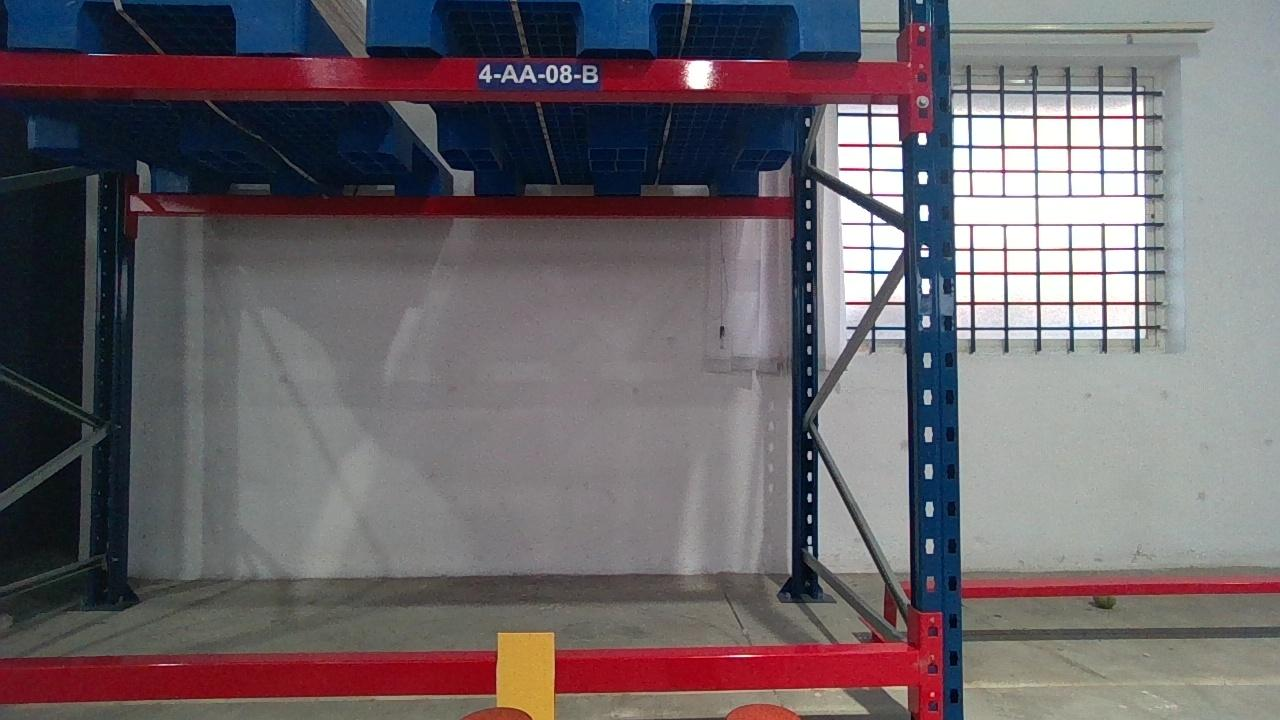h_rack: (1, 655, 928, 701), (3, 51, 920, 94)
orange_strip: (495, 631, 556, 718)
small_pallet: (362, 0, 862, 51), (2, 0, 300, 49)
